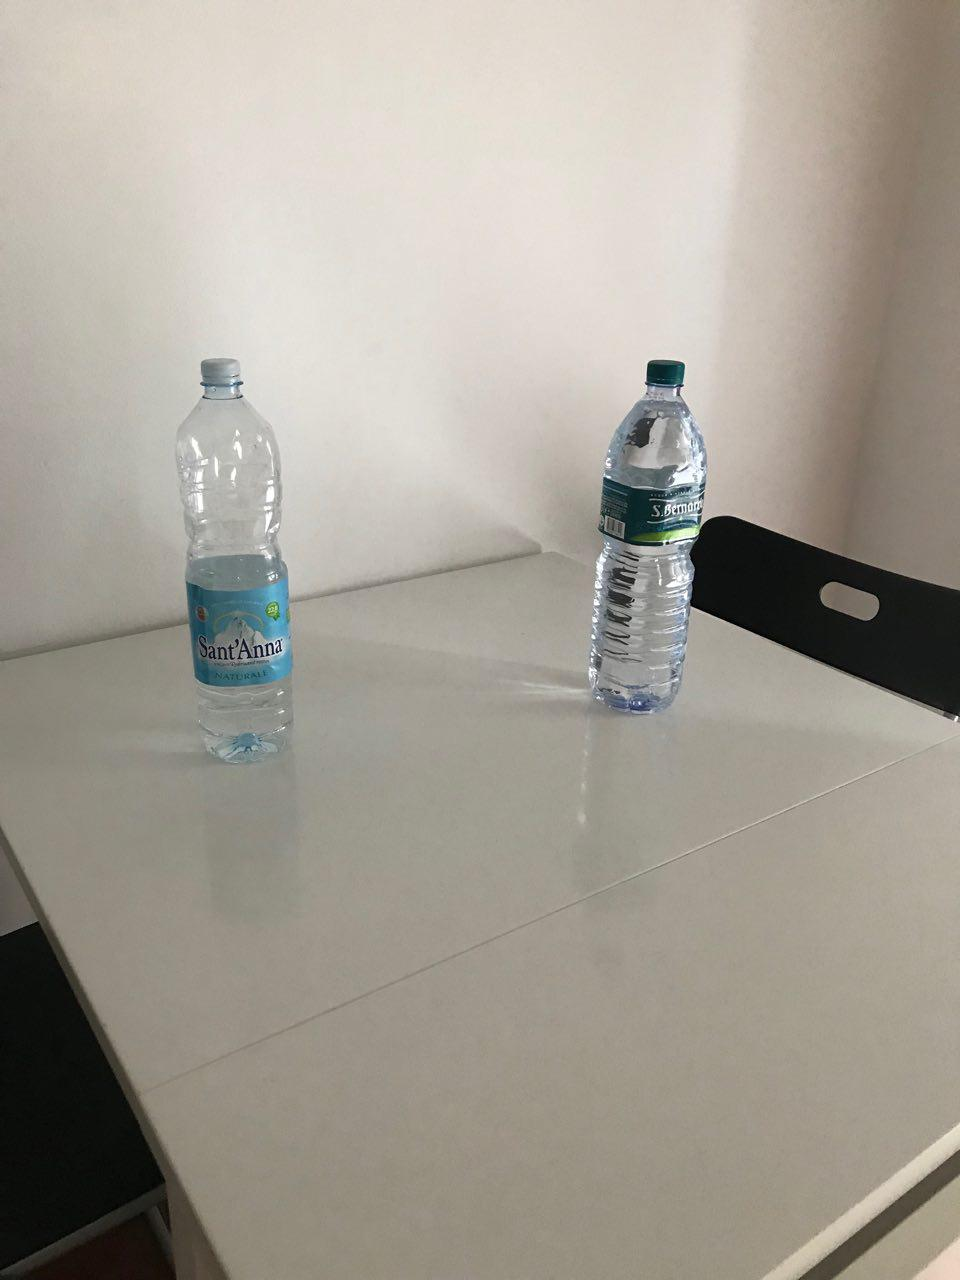san_bernardo: (587, 359, 708, 716)
